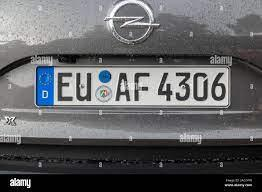0: (191, 71, 208, 102)
3: (174, 72, 192, 101)
4: (155, 71, 174, 101)
6: (210, 72, 227, 100)
A: (115, 72, 131, 101)
E: (56, 72, 74, 101)
F: (132, 71, 152, 102)
U: (74, 71, 93, 102)
